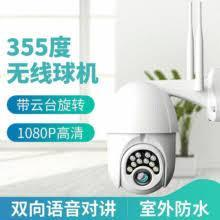maru: (104, 75, 184, 201)
